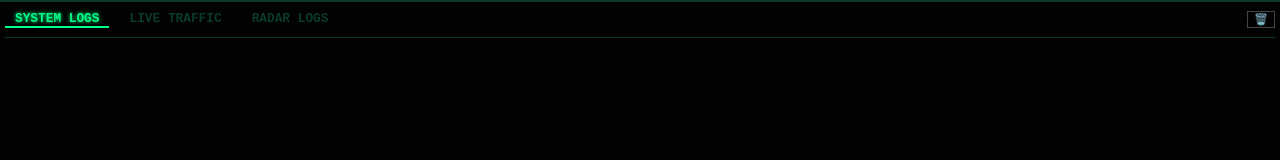
Test: ConsoleLogs › debe mostrar placeholder si no hay RADAR LOGS
Click the text "RADAR LOGS": (290, 18) [252,11,328,26]
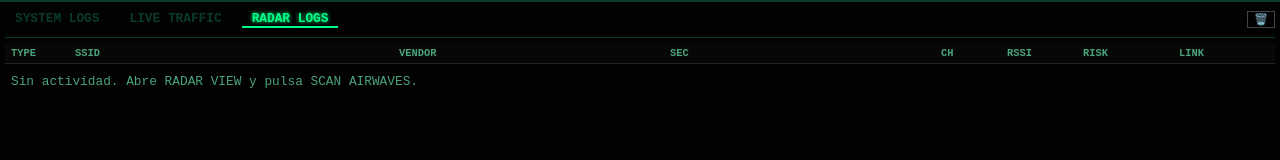
Result: the text "Sin actividad. Abre RADAR VIEW y pulsa SCAN AIRWAVES." is shown at [11,74,418,89]
